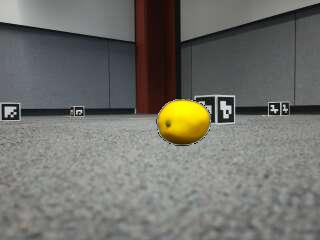lemon: (159, 101, 210, 144)
